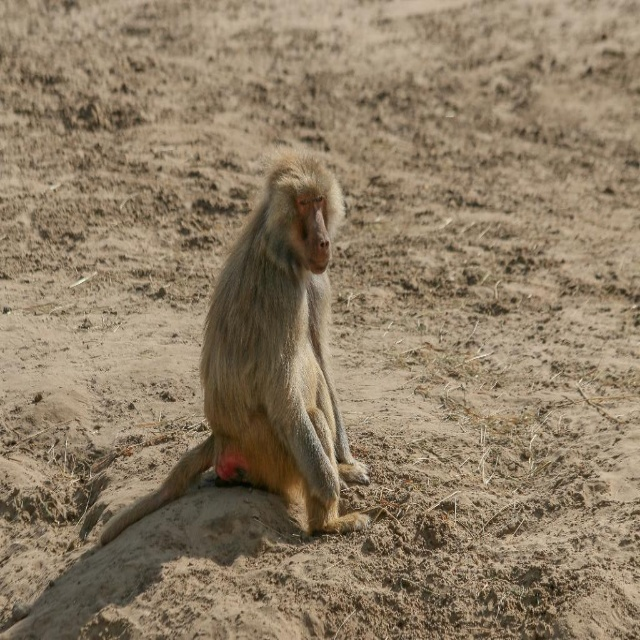Monkey: (99, 155, 374, 546)
